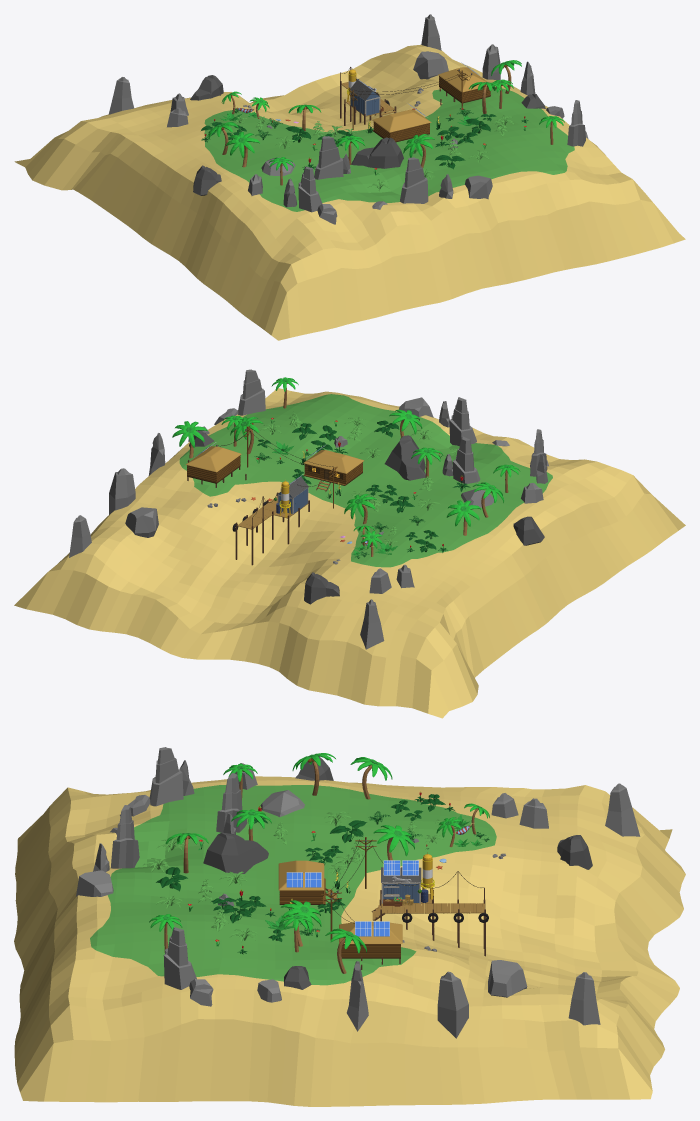
Rendered from Solarpunk IslandMerged.fbx.
3 views of the same model, one above another, from view 1: azimuth 30°, elevation 25°; view 2: azimuth 150°, elevation 25°; view 3: azimuth 270°, elevation 25° (orthographic). The views are drawn at different scales.
Parts seen in each view (by area): view 1: Island; view 2: Island; view 3: Island.
Part boxes in pixels (left/top/right/bottom): Island: left=14, top=14, right=685, bottom=340; Island: left=14, top=369, right=685, bottom=718; Island: left=14, top=747, right=685, bottom=1106.
Size of the model in its own units: 3067 by 745 by 3098.
